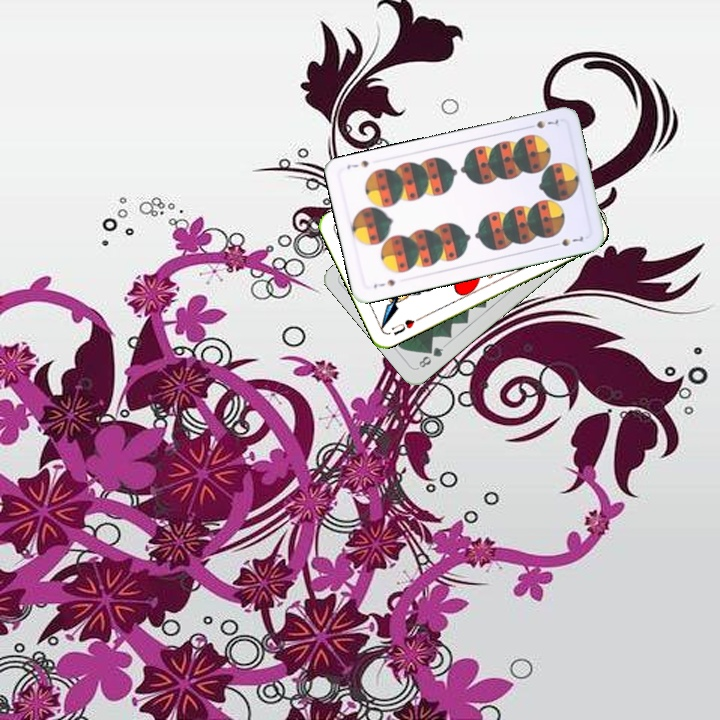G8: (414, 343, 446, 371)
HU: (388, 314, 423, 338)
S7: (523, 115, 561, 131), (369, 275, 398, 291)
